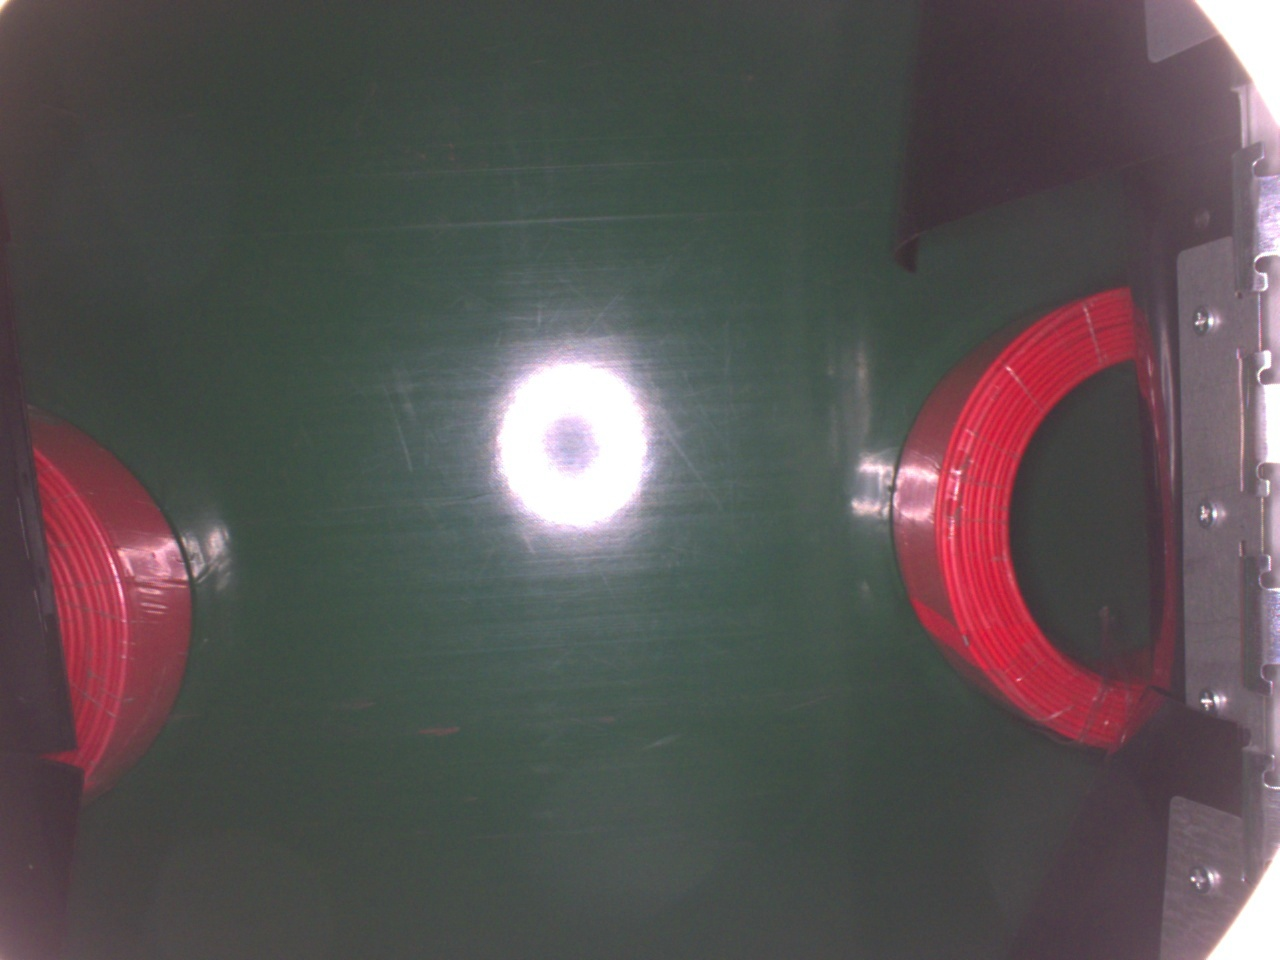red: (893, 283, 1174, 749), (28, 396, 188, 812)
